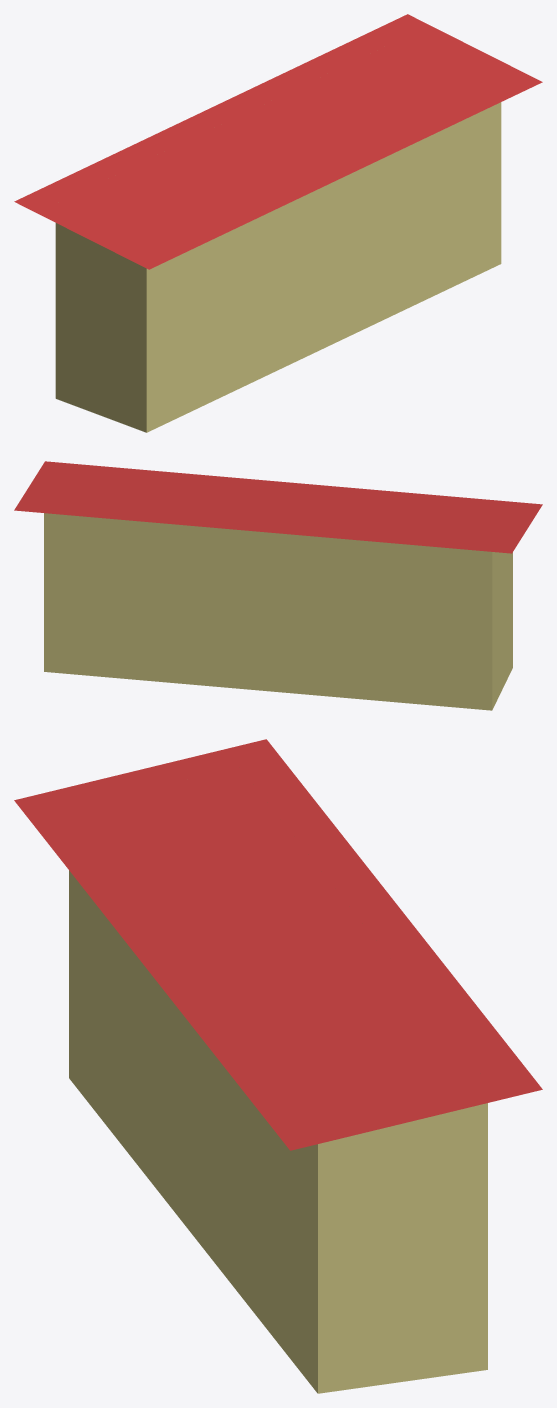
3 renders of one model, top to bottom at view 1: azimuth 30°, elevation 25°; view 2: azimuth 150°, elevation 25°; view 3: azimuth 270°, elevation 25°, orthographic. The views are drawn at different scales.
Size of the model in its own units: 21.01 by 12.17 by 7.41.
